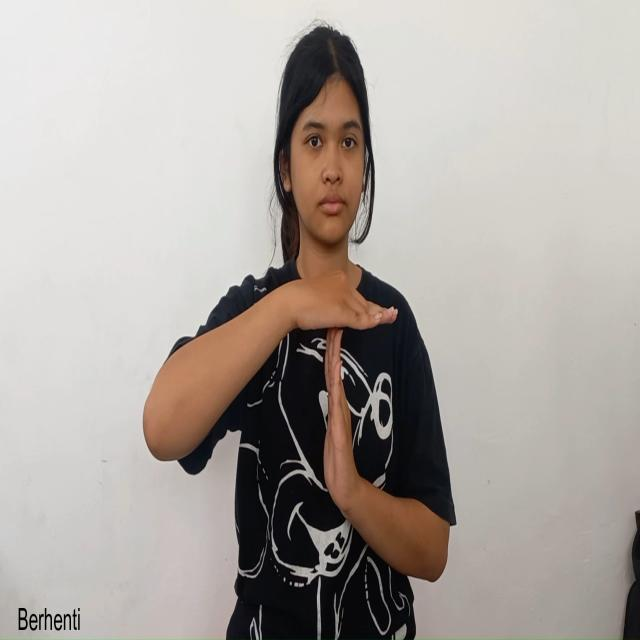Berhenti -BISINDO-: (256, 273, 410, 544)
